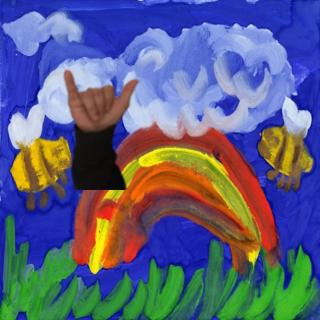HAVE: (56, 64, 145, 127)
